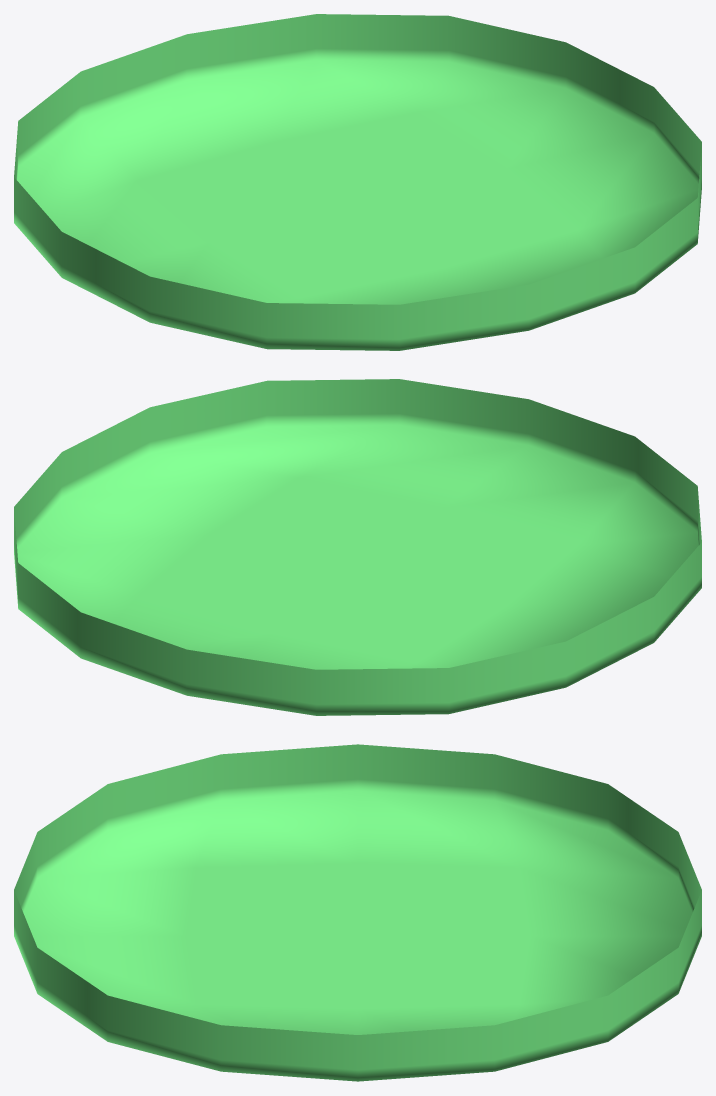
The model's file is LotusLeaves.glb.
The picture shows the model from 3 angles, top to bottom: view 1: azimuth 30°, elevation 25°; view 2: azimuth 150°, elevation 25°; view 3: azimuth 270°, elevation 25°; orthographic projection.
Visible parts, largest first — view 1: LotusLeaves.003; view 2: LotusLeaves.003; view 3: LotusLeaves.003.
Part boxes in pixels (bbox=[...]): LotusLeaves.003: bbox=[14, 14, 701, 350]; LotusLeaves.003: bbox=[14, 379, 701, 715]; LotusLeaves.003: bbox=[14, 744, 701, 1081].
Size of the model in its own units: 0.6811 by 0.0507 by 0.6811.
